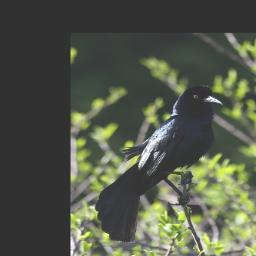Crow: (96, 83, 224, 241)
